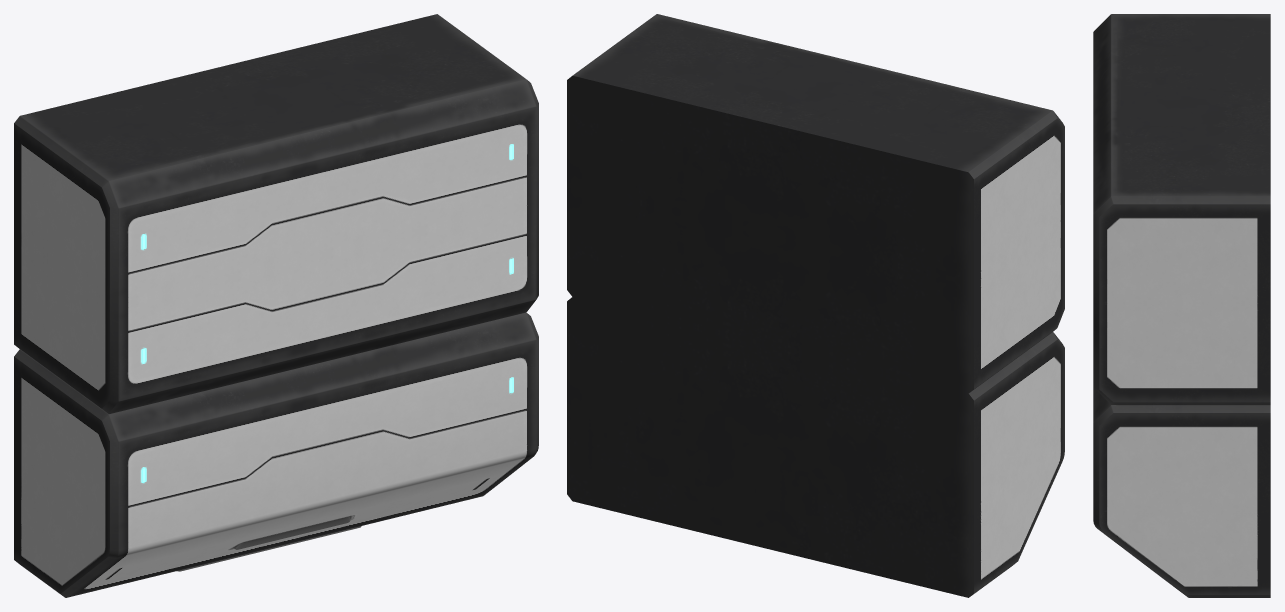
The model's file is LabWorkspaceUnit01_6.FBX.
The picture shows the model from 3 angles, left to right: view 1: azimuth 30°, elevation 25°; view 2: azimuth 150°, elevation 25°; view 3: azimuth 270°, elevation 25°; orthographic projection. The views are drawn at different scales.
Parts seen in each view (by area): view 1: LabWorkspaceUnit01_6; view 2: LabWorkspaceUnit01_6; view 3: LabWorkspaceUnit01_6.
Part boxes in pixels (box(x1,y1,x2,y2)): LabWorkspaceUnit01_6: box(14, 14, 538, 597); LabWorkspaceUnit01_6: box(567, 14, 1064, 597); LabWorkspaceUnit01_6: box(1093, 14, 1270, 597).
Size of what is drawn, in the model's own units: 1.5 by 1.52 by 0.6.
